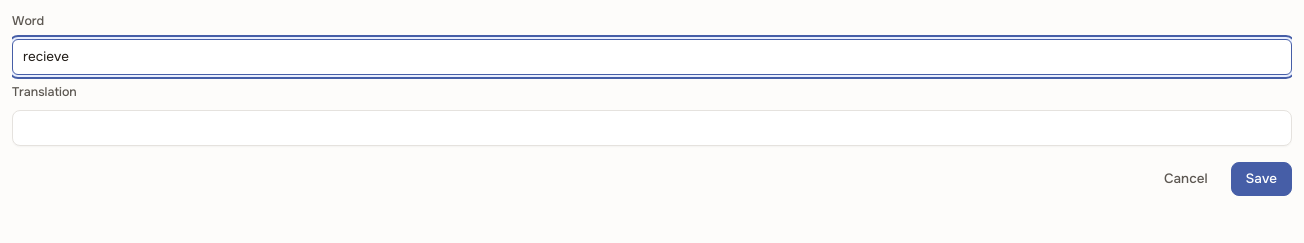
Scenario: WordDetailEdit › shows the error and stays open when the word already exists
Click the button "Save" at (1261, 178), box [1230,162,1292,196]
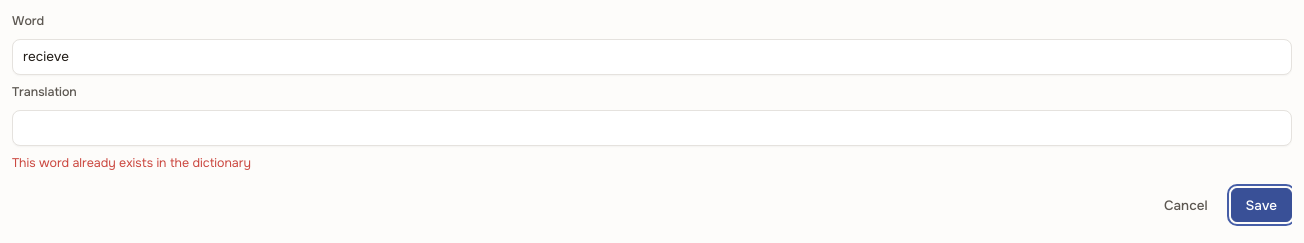
expect the message "This word already exists in the dictionary" is shown: met, box [12,154,251,170]
